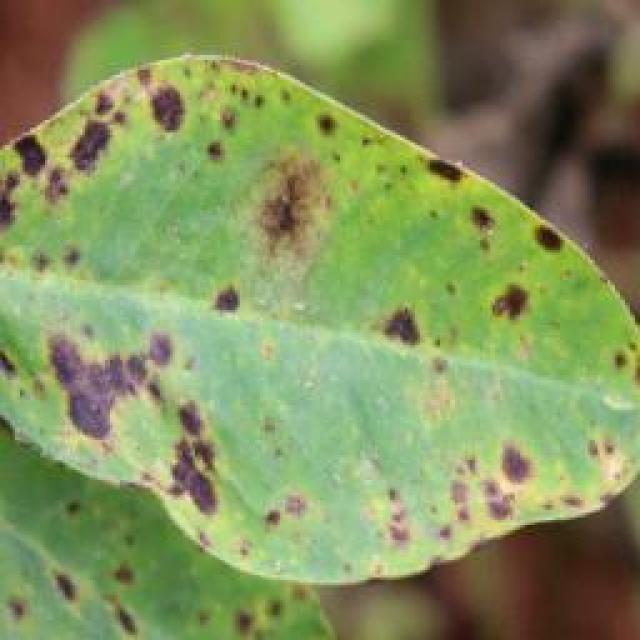Yellowish: (0, 65, 640, 640)
